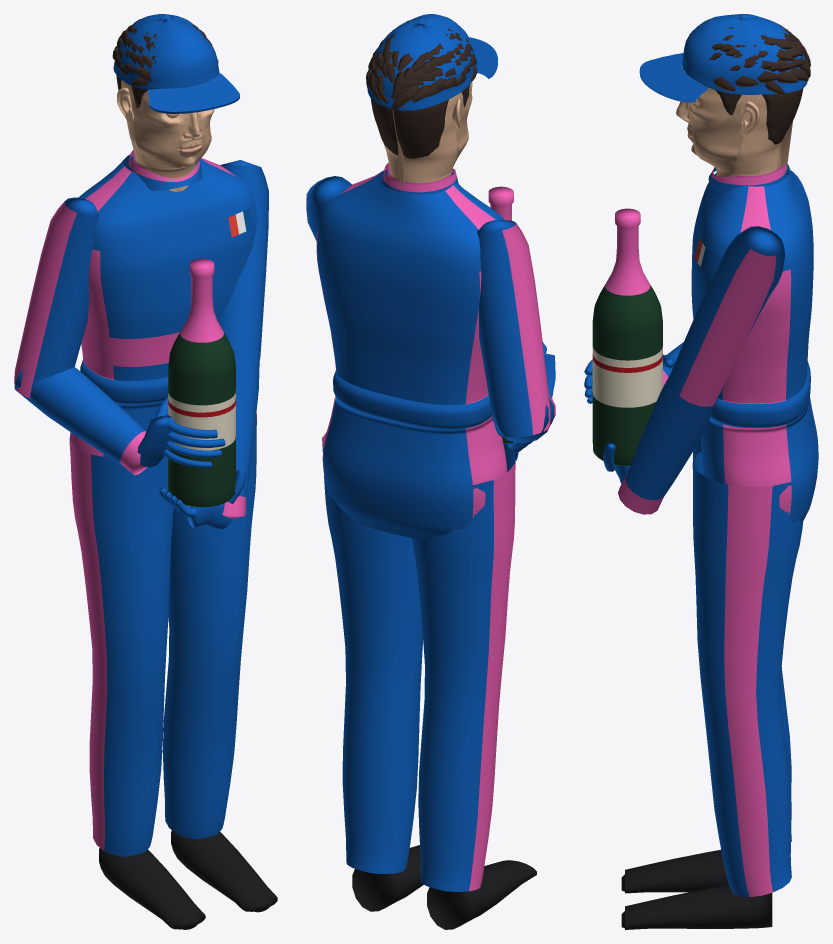
File: GAS.glb
3 views of the same model, side by side, from view 1: azimuth 30°, elevation 25°; view 2: azimuth 150°, elevation 25°; view 3: azimuth 270°, elevation 25° (orthographic). The views are drawn at different scales.
Visible parts, largest first — view 1: legs, torso, bottle, arm_r_mesh, cap, forearm_r_mesh, face, arm_l_mesh, hand_r_mesh, forearm_l_mesh, hand_l_mesh, hair_top; view 2: legs, torso, arm_r_mesh, cap, hair_top, face, hair, arm_l_mesh, bottle, forearm_r_mesh; view 3: legs, torso, bottle, arm_l_mesh, cap, face, forearm_l_mesh, hair_top, hair.
Boxes of the visible parts, x1=… form: legs: x1=69, y1=413, x2=277, y2=929; torso: x1=70, y1=150, x2=256, y2=458; bottle: x1=168, y1=258, x2=235, y2=507; arm_r_mesh: x1=14, y1=197, x2=99, y2=399; cap: x1=113, y1=14, x2=239, y2=113; forearm_r_mesh: x1=14, y1=366, x2=146, y2=475; face: x1=117, y1=80, x2=214, y2=191; arm_l_mesh: x1=219, y1=160, x2=268, y2=361; hand_r_mesh: x1=137, y1=397, x2=225, y2=467; forearm_l_mesh: x1=222, y1=359, x2=259, y2=518; hand_l_mesh: x1=158, y1=469, x2=246, y2=529; hair_top: x1=112, y1=19, x2=218, y2=85; legs: x1=322, y1=432, x2=536, y2=929; torso: x1=316, y1=163, x2=507, y2=540; arm_r_mesh: x1=477, y1=220, x2=550, y2=437; cap: x1=367, y1=14, x2=497, y2=110; hair_top: x1=366, y1=18, x2=476, y2=110; face: x1=383, y1=81, x2=472, y2=191; hair: x1=370, y1=85, x2=469, y2=158; arm_l_mesh: x1=306, y1=176, x2=351, y2=240; bottle: x1=488, y1=186, x2=514, y2=443; forearm_r_mesh: x1=493, y1=396, x2=555, y2=443; legs: x1=621, y1=439, x2=803, y2=929; torso: x1=691, y1=163, x2=818, y2=522; bottle: x1=592, y1=208, x2=662, y2=465; arm_l_mesh: x1=669, y1=226, x2=784, y2=406; cap: x1=639, y1=14, x2=807, y2=102; face: x1=676, y1=83, x2=792, y2=176; forearm_l_mesh: x1=618, y1=373, x2=713, y2=514; hair_top: x1=709, y1=22, x2=810, y2=94; hair: x1=715, y1=88, x2=803, y2=144.
Size of the model in its own units: 0.5227 by 1.8 by 0.4272.
